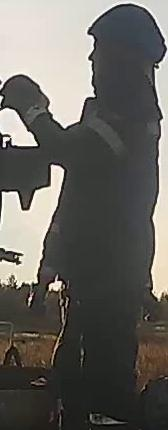gloves: (0, 73, 51, 130)
helmet: (87, 4, 168, 57)
vest: (46, 87, 168, 302)
